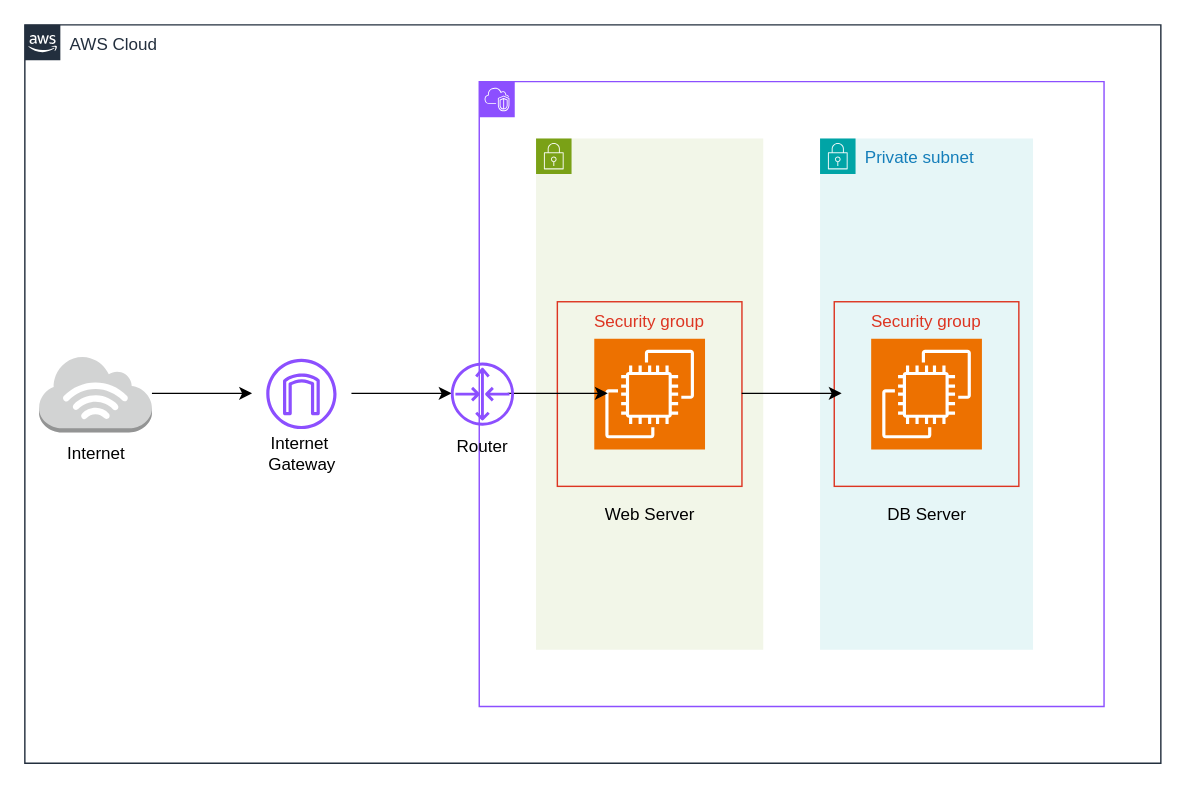
The diagram is 1186 pixels wide and 788 high, and some of its shapes have lost their labels. Here are the shapes that lost their labels. From the top down, the box of each, then its label:
(535, 137, 763, 650): Public subnet
(478, 80, 1104, 706): VPC
